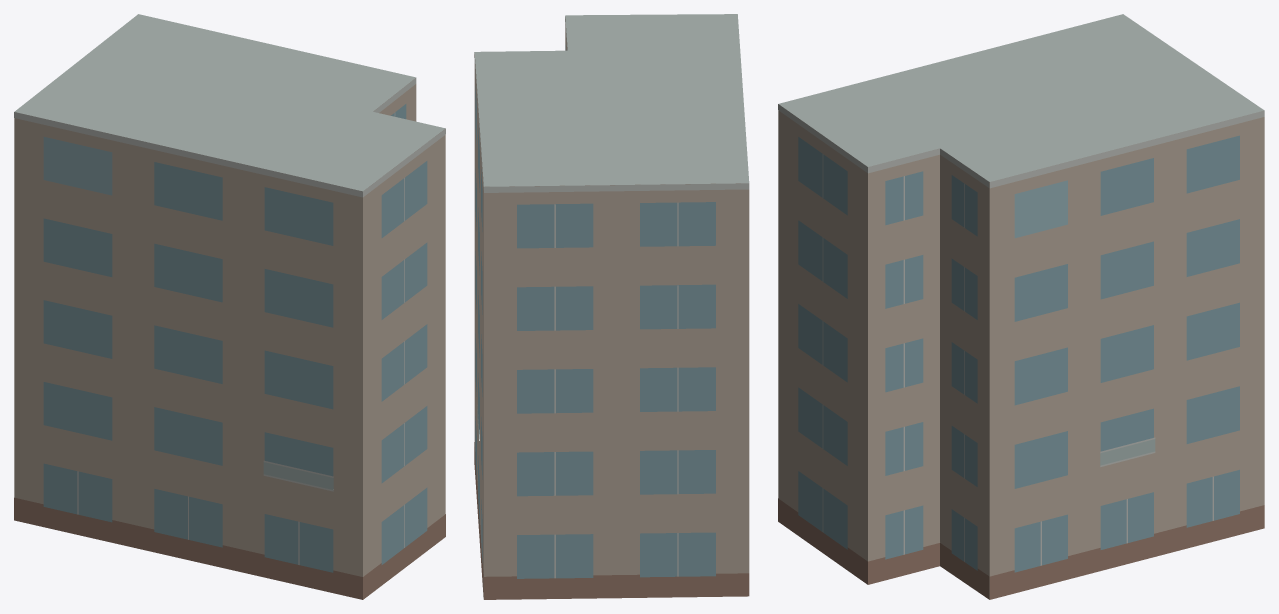
File: survey-upis-32938200.glb
The picture shows the model from 3 angles, left to right: view 1: azimuth 30°, elevation 25°; view 2: azimuth 150°, elevation 25°; view 3: azimuth 270°, elevation 25°; orthographic projection. The views are drawn at different scales.
Visible parts, largest first — view 1: survey-upis-32938200.tmp; view 2: survey-upis-32938200.tmp; view 3: survey-upis-32938200.tmp.
Part boxes in pixels (box(x1,y1,x2,y2)): survey-upis-32938200.tmp: box(14, 14, 445, 599); survey-upis-32938200.tmp: box(474, 14, 749, 599); survey-upis-32938200.tmp: box(778, 14, 1264, 599).
Size of the model in its own units: 13.99 by 16.2 by 17.11.
